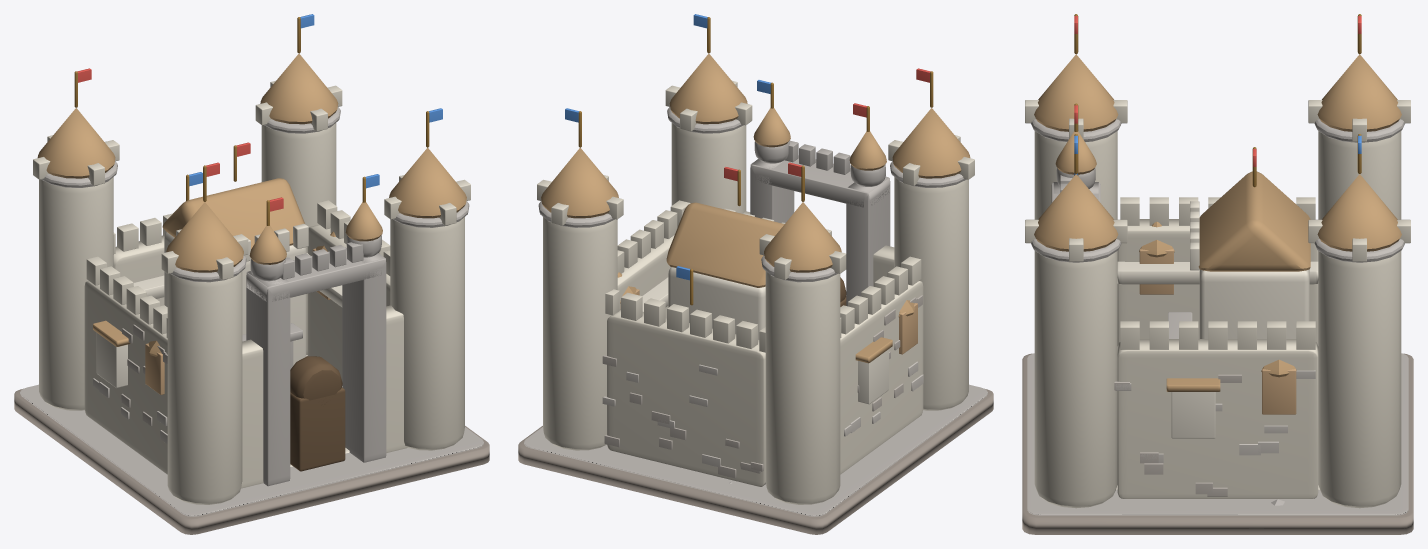
Rendered from burg_level_4.glb.
The picture shows the model from 3 angles, left to right: view 1: azimuth 30°, elevation 25°; view 2: azimuth 150°, elevation 25°; view 3: azimuth 270°, elevation 25°; orthographic projection. The views are drawn at different scales.
Visible parts, largest first — view 1: Tower_FL, Tower_FR, Tower_BL, Platform, PlatformLip, Gatehouse_R, Wall_Left, Gatehouse_L, Tower_BR, Keep_Roof, Gate_Opening, Wall_Right (+19 smaller); view 2: Wall_Back, Tower_BL, Tower_BR, Tower_FL, Platform, PlatformLip, Wall_Left, Keep_Roof, Tower_FR, Gatehouse_L, Keep_Main, Tower_BL_Roof (+18 smaller); view 3: Wall_Right, Tower_BR, Tower_FR, Platform, Keep_Roof, PlatformLip, Keep_Main, Wall_Left, Tower_BL, Tower_BL_Roof, Tower_BR_Roof, Tower_FR_Roof (+21 smaller).
Part boxes in pixels (left/top/right/bottom): Tower_FL: left=167, top=271, right=242, bottom=504; Tower_FR: left=390, top=217, right=464, bottom=450; Tower_BL: left=39, top=177, right=113, bottom=410; Platform: left=14, top=388, right=489, bottom=534; PlatformLip: left=20, top=384, right=483, bottom=516; Gatehouse_R: left=342, top=248, right=386, bottom=462; Wall_Left: left=84, top=281, right=167, bottom=474; Gatehouse_L: left=246, top=271, right=290, bottom=486; Tower_BR: left=261, top=123, right=336, bottom=354; Keep_Roof: left=162, top=178, right=304, bottom=248; Gate_Opening: left=290, top=387, right=345, bottom=471; Wall_Right: left=307, top=224, right=390, bottom=380; Wall_Back: left=607, top=309, right=765, bottom=486; Tower_BL: left=765, top=271, right=840, bottom=504; Tower_BR: left=543, top=217, right=617, bottom=450; Tower_FL: left=894, top=177, right=968, bottom=410; Platform: left=518, top=388, right=993, bottom=534; PlatformLip: left=524, top=384, right=987, bottom=516; Wall_Left: left=840, top=281, right=923, bottom=474; Keep_Roof: left=666, top=202, right=784, bottom=287; Tower_FR: left=671, top=123, right=746, bottom=213; Gatehouse_L: left=846, top=177, right=890, bottom=306; Keep_Main: left=668, top=267, right=765, bottom=339; Tower_BL_Roof: left=764, top=202, right=841, bottom=272; Wall_Right: left=1117, top=339, right=1318, bottom=498; Tower_BR: left=1318, top=251, right=1401, bottom=508; Tower_FR: left=1034, top=251, right=1117, bottom=508; Platform: left=1022, top=353, right=1413, bottom=534; Keep_Roof: left=1198, top=171, right=1310, bottom=271; PlatformLip: left=1027, top=353, right=1408, bottom=515; Keep_Main: left=1199, top=269, right=1309, bottom=338; Wall_Left: left=1117, top=219, right=1318, bottom=345; Tower_BL: left=1318, top=131, right=1401, bottom=219; Tower_BL_Roof: left=1317, top=54, right=1401, bottom=131; Tower_BR_Roof: left=1317, top=174, right=1401, bottom=251; Tower_FR_Roof: left=1034, top=174, right=1118, bottom=251.
Size of the model in its own units: 1.6 by 1.74 by 1.6.
